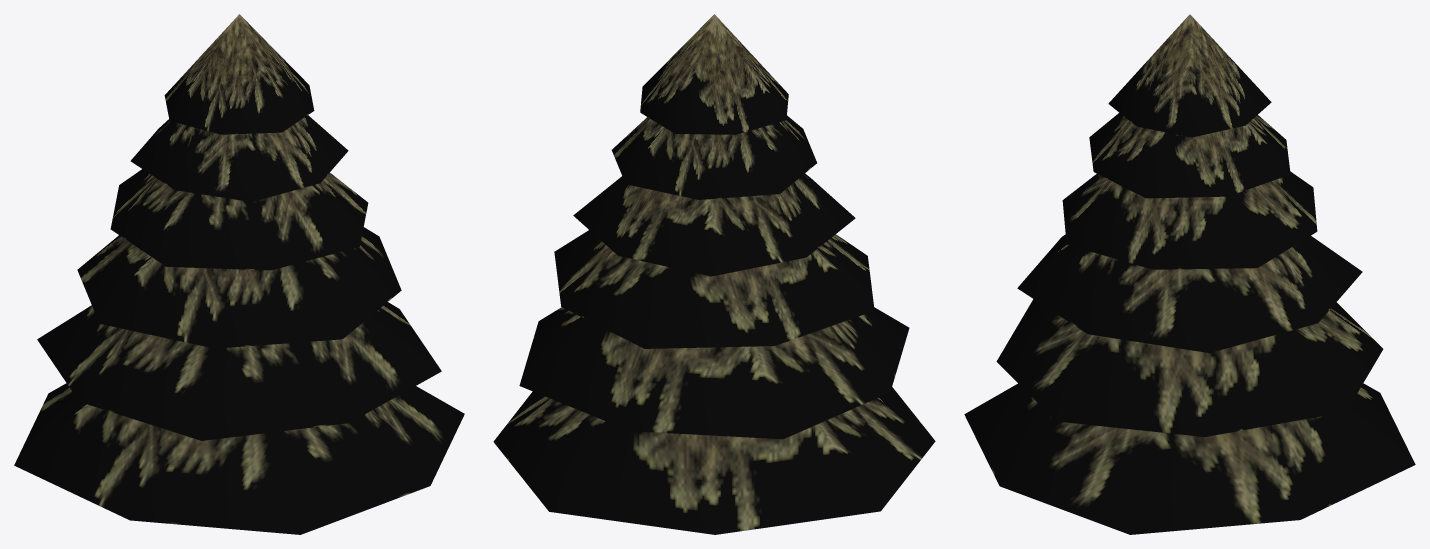
The model's file is pine_0.obj.
3 views of the same model, side by side, from view 1: azimuth 30°, elevation 25°; view 2: azimuth 150°, elevation 25°; view 3: azimuth 270°, elevation 25° (orthographic).
Visible parts, largest first — view 1: pine_0; view 2: pine_0; view 3: pine_0.
Part boxes in pixels (x1=…): pine_0: x1=14, y1=14, x2=464, y2=534; pine_0: x1=493, y1=14, x2=935, y2=534; pine_0: x1=964, y1=14, x2=1415, y2=534.
Size of the model in its own units: 5.02 by 6.06 by 5.02.
